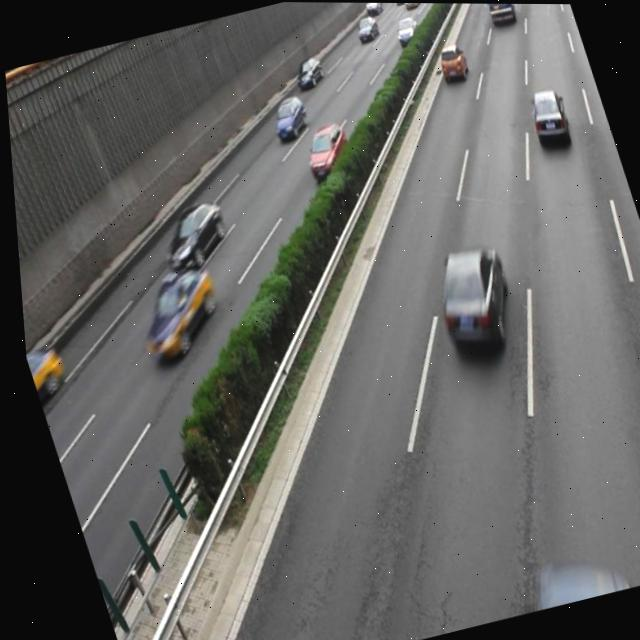car: (416, 239, 520, 358), (121, 263, 228, 368), (145, 196, 234, 277), (295, 121, 353, 182), (520, 84, 572, 150), (263, 92, 309, 141), (432, 40, 469, 85)
